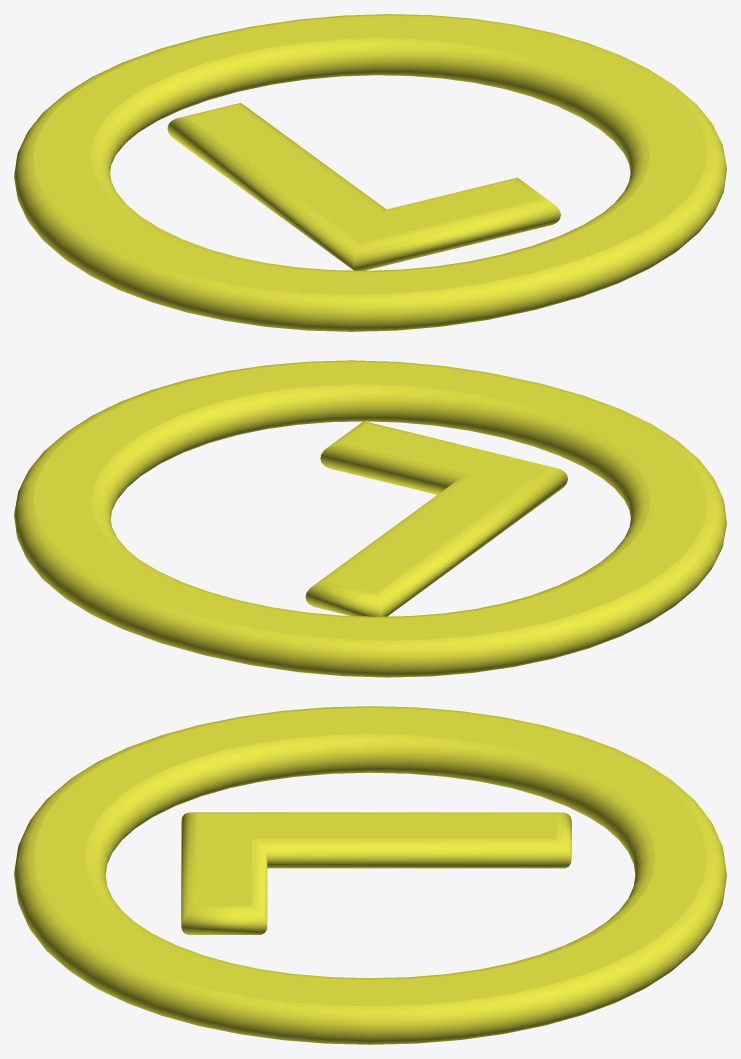
The model's file is yellow.dae.
3 renders of one model, top to bottom at view 1: azimuth 30°, elevation 25°; view 2: azimuth 150°, elevation 25°; view 3: azimuth 270°, elevation 25°, orthographic. The views are drawn at different scales.
Parts seen in each view (by area): view 1: Text.001; view 2: Text.001; view 3: Text.001.
Boxes of the visible parts, x1,y1,x2,y2 form: Text.001: (14,14,726,331); Text.001: (14,360,726,677); Text.001: (14,706,726,1044).
Bounding box in the file's own units: 1.6 × 1.53 × 0.0875.
